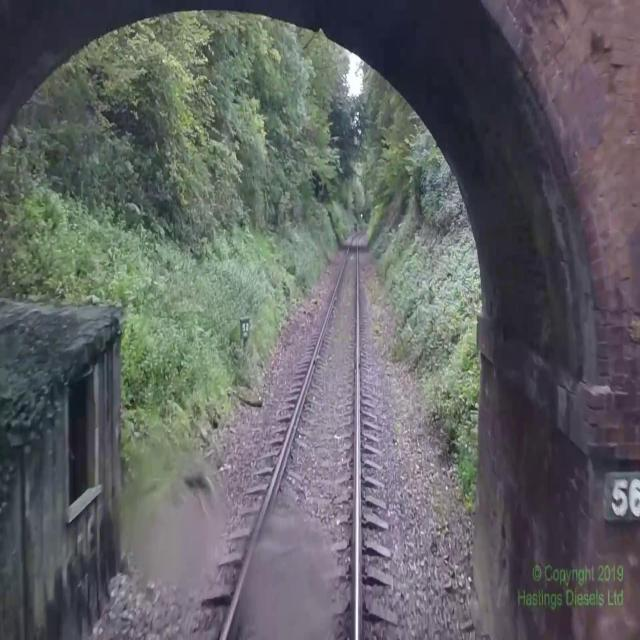rail-track: (225, 232, 362, 639)
